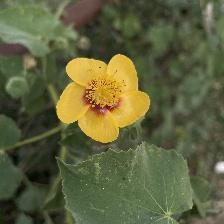indian mallow: (57, 55, 153, 146)
